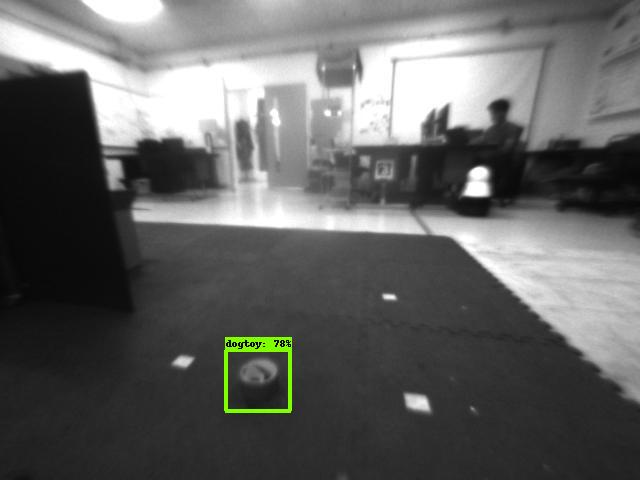dogtoy: (226, 355, 290, 404)
